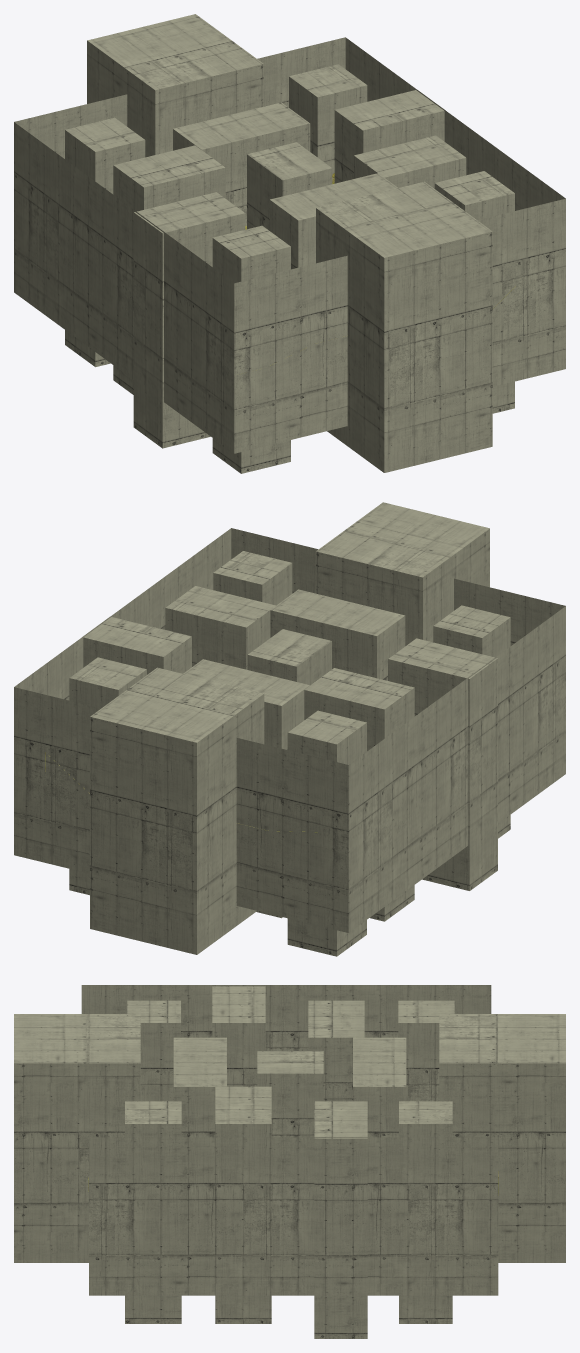
Rendered from SM_NeoLD_14_Block_00.fbx.
The picture shows the model from 3 angles, top to bottom: view 1: azimuth 30°, elevation 25°; view 2: azimuth 150°, elevation 25°; view 3: azimuth 270°, elevation 25°; orthographic projection. The views are drawn at different scales.
Parts seen in each view (by area): view 1: SM_NeoLD_14_Block_00; view 2: SM_NeoLD_14_Block_00; view 3: SM_NeoLD_14_Block_00.
Boxes of the visible parts, left/top/right/bottom form: SM_NeoLD_14_Block_00: left=14, top=14, right=565, bottom=473; SM_NeoLD_14_Block_00: left=14, top=502, right=565, bottom=956; SM_NeoLD_14_Block_00: left=14, top=985, right=565, bottom=1338.
Size of the model in its own units: 3648 by 2479 by 5548.
